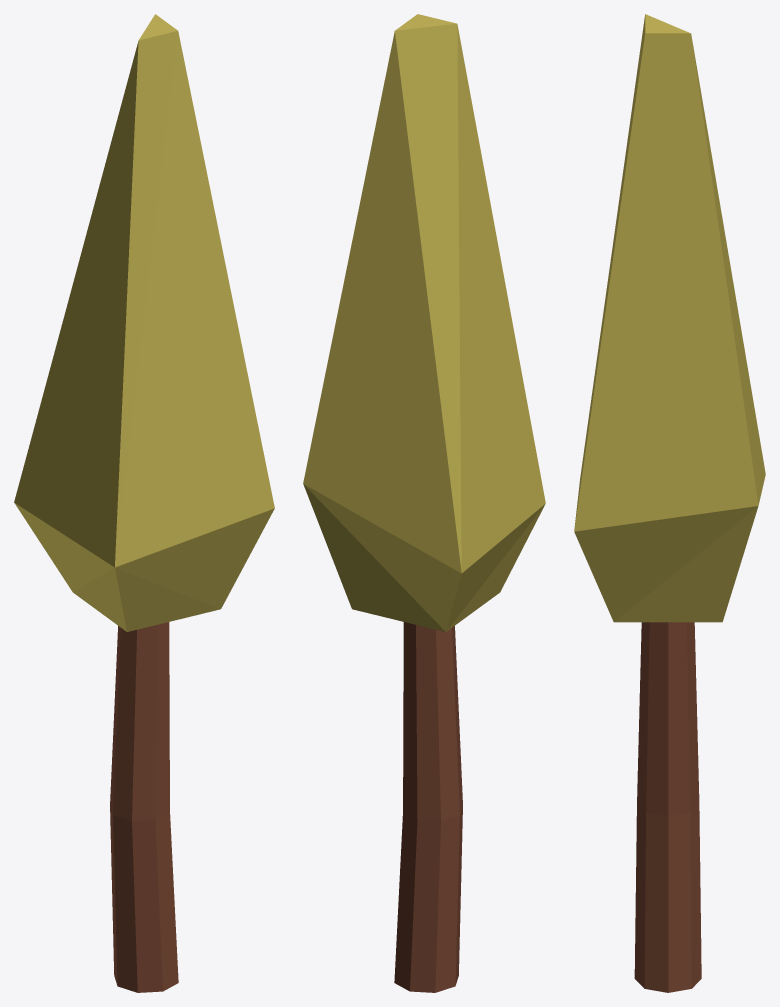
Rendered from Tree_49_autumn_vc.fbx.
3 renders of one model, left to right at view 1: azimuth 30°, elevation 25°; view 2: azimuth 150°, elevation 25°; view 3: azimuth 270°, elevation 25°, orthographic.
Visible parts, largest first — view 1: Tree_49_autumn_vc; view 2: Tree_49_autumn_vc; view 3: Tree_49_autumn_vc.
Boxes of the visible parts, left/top/right/bottom form: Tree_49_autumn_vc: left=14, top=14, right=274, bottom=992; Tree_49_autumn_vc: left=303, top=14, right=545, bottom=992; Tree_49_autumn_vc: left=574, top=14, right=765, bottom=992.
Bounding box in the file's own units: 47.16 × 259 × 47.16.
